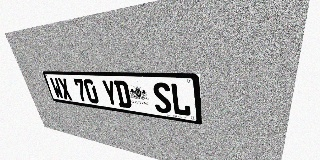0: (82, 79, 100, 104)
7: (73, 78, 89, 103)
D: (113, 80, 132, 109)
L: (170, 83, 191, 117)
S: (152, 82, 172, 114)
W: (49, 77, 64, 99)
X: (57, 78, 73, 100)
Y: (101, 80, 119, 107)
